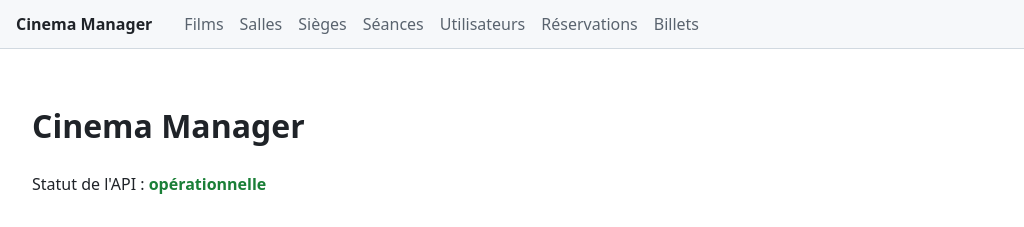
Test case: App › navigates to the page "Salles" (/rooms)
Step 1. Click the link "Salles" → (261, 24), box 240,12 -> 282,36
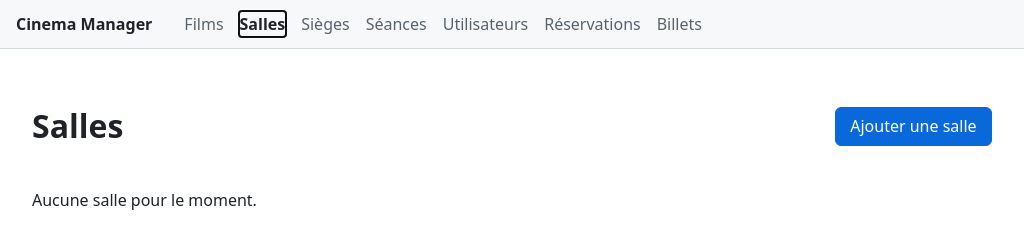
Result: the heading "Salles" is shown at 32,102 -> 123,150
